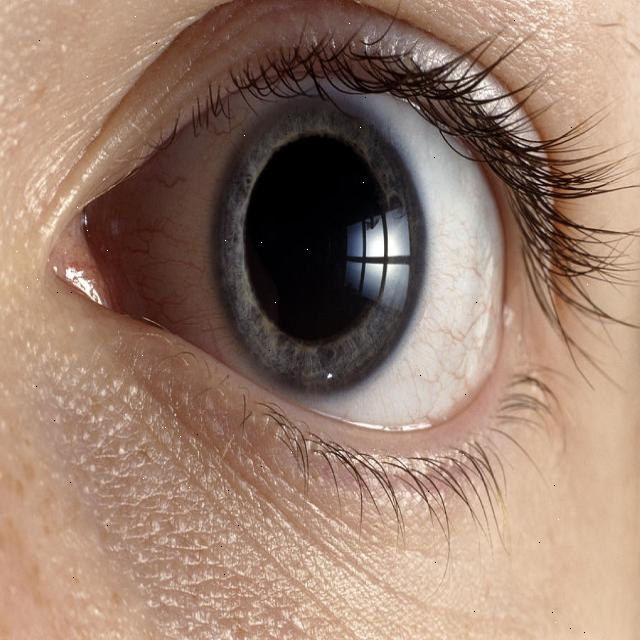Normal: (210, 92, 425, 407)
